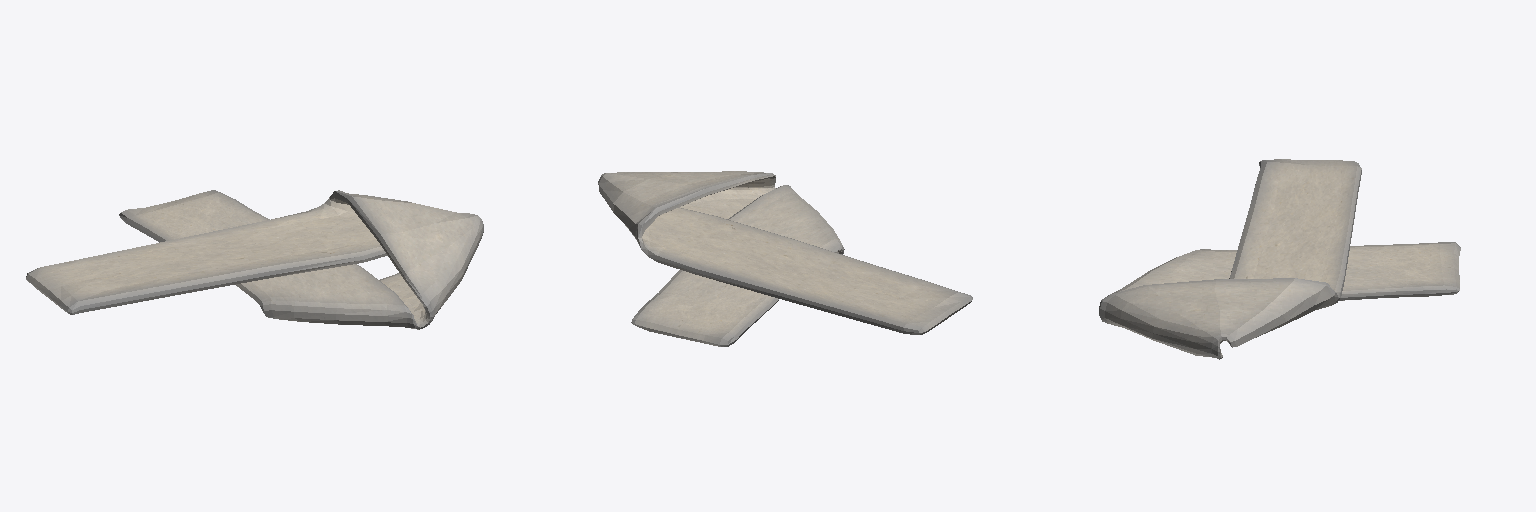
The picture shows the model from 3 angles: view 1: azimuth 30°, elevation 25°; view 2: azimuth 150°, elevation 25°; view 3: azimuth 270°, elevation 25°; orthographic projection.
Parts seen in each view (by area): view 1: note_low; view 2: note_low; view 3: note_low.
Boxes of the visible parts, x1,y1,x2,y2 form: note_low: [26, 190, 483, 329]; note_low: [598, 171, 972, 346]; note_low: [1099, 159, 1460, 359].
Bounding box in the file's own units: 0.915 × 0.1269 × 0.7298.
Materials: 1 (1 with a texture image).